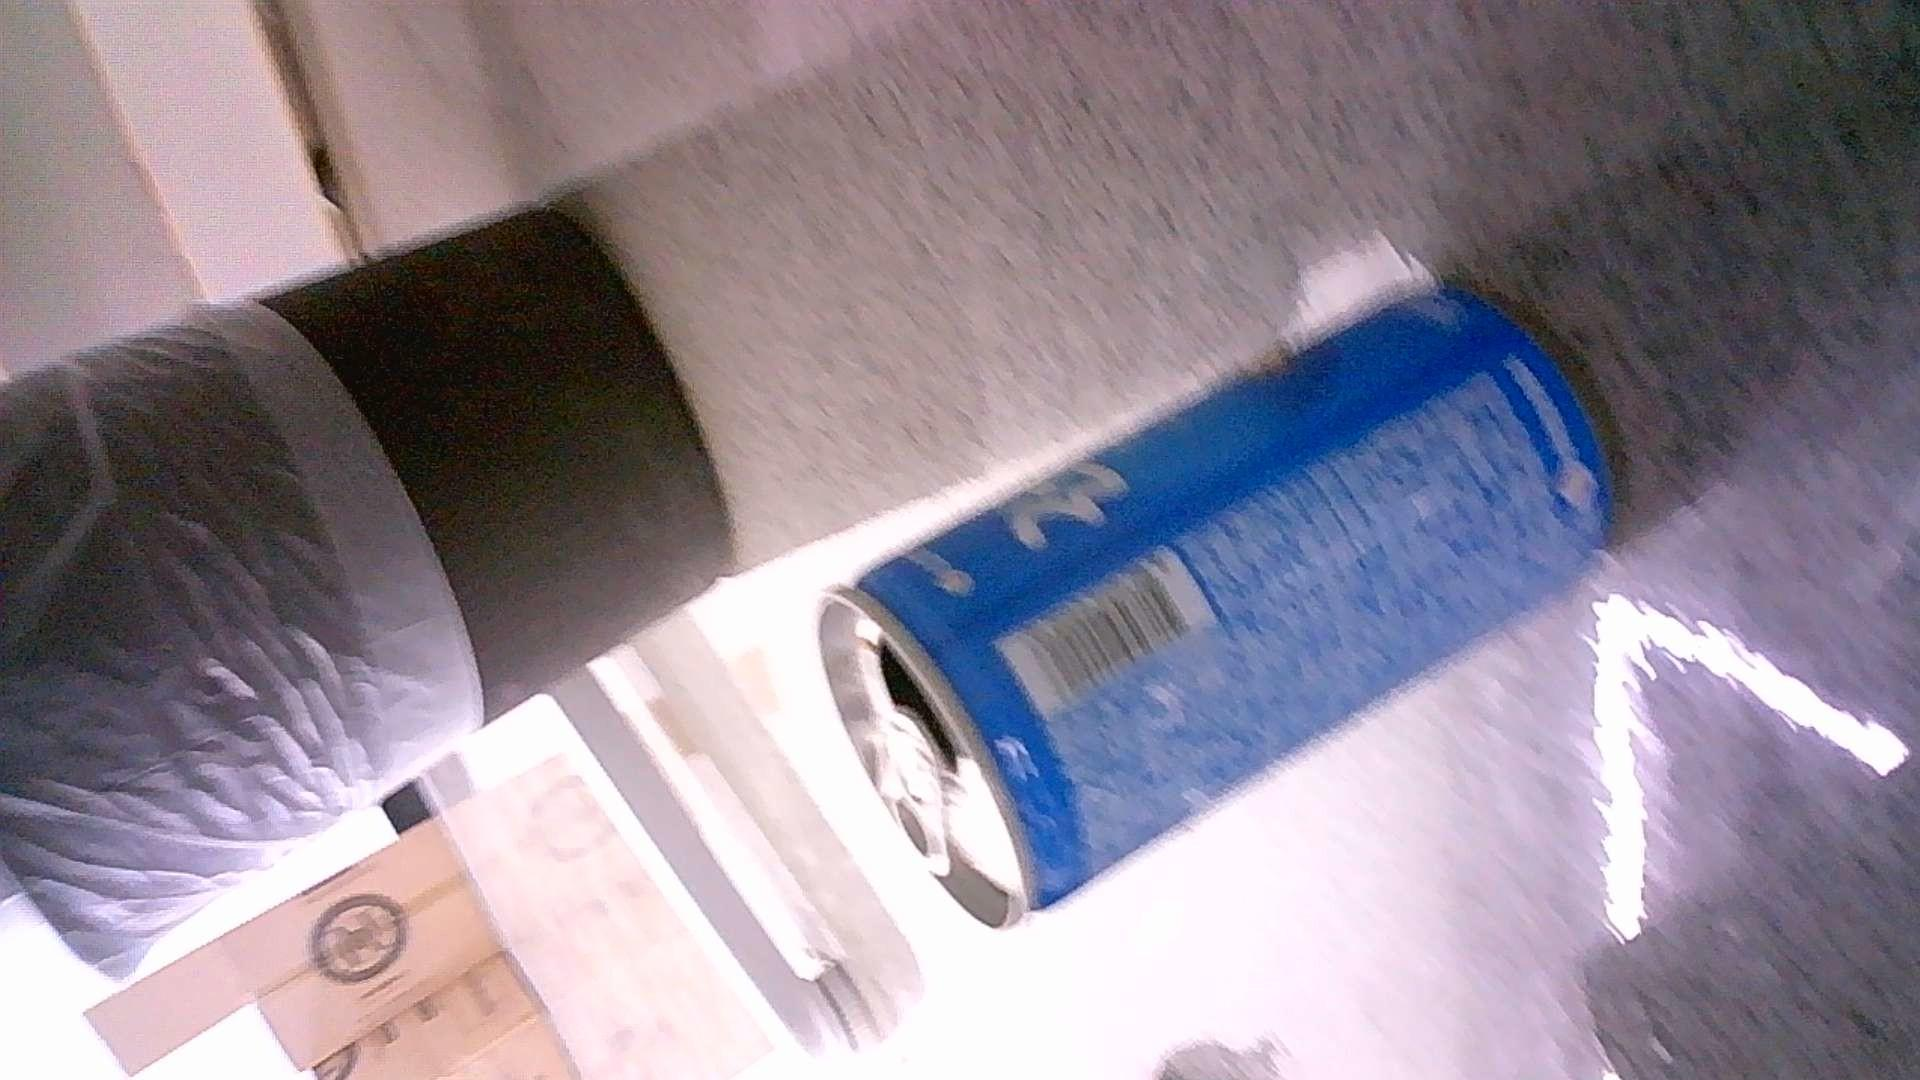letsbe: (811, 284, 1621, 934)
